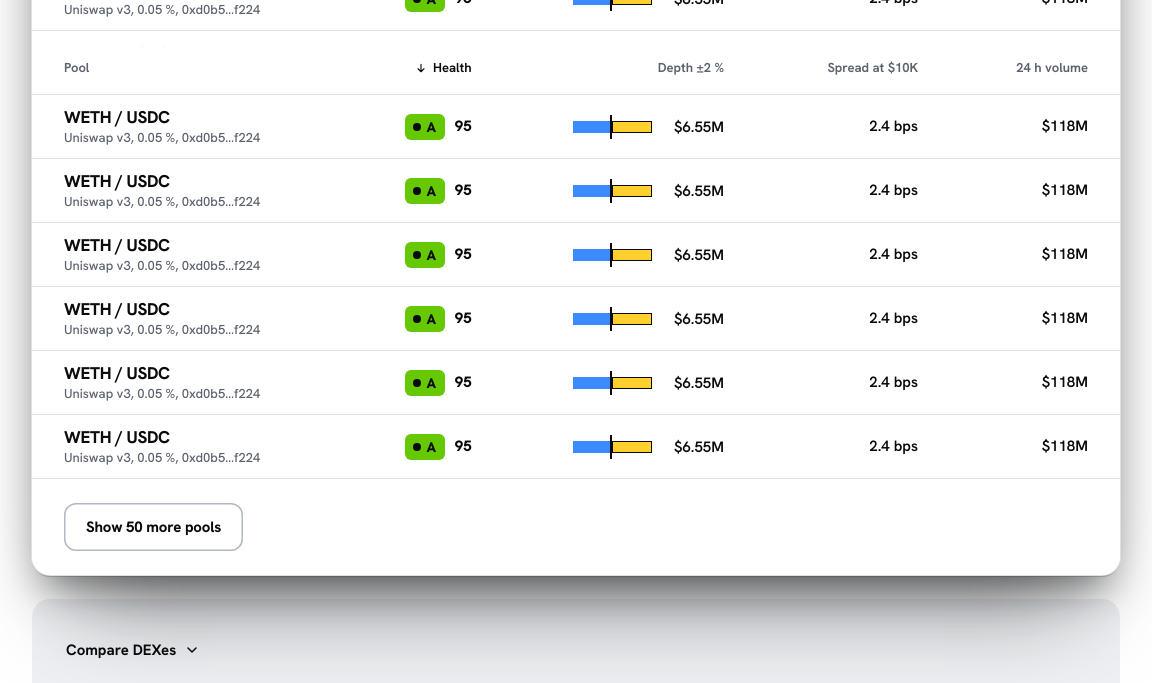
Scenario: Pools: paging and failures › shows pages of 50 and puts the page in the URL
(page scrolled)
Click the button "Show 50 more pools".
click(154, 527)  # box 64,503 -> 243,551
(page scrolled)
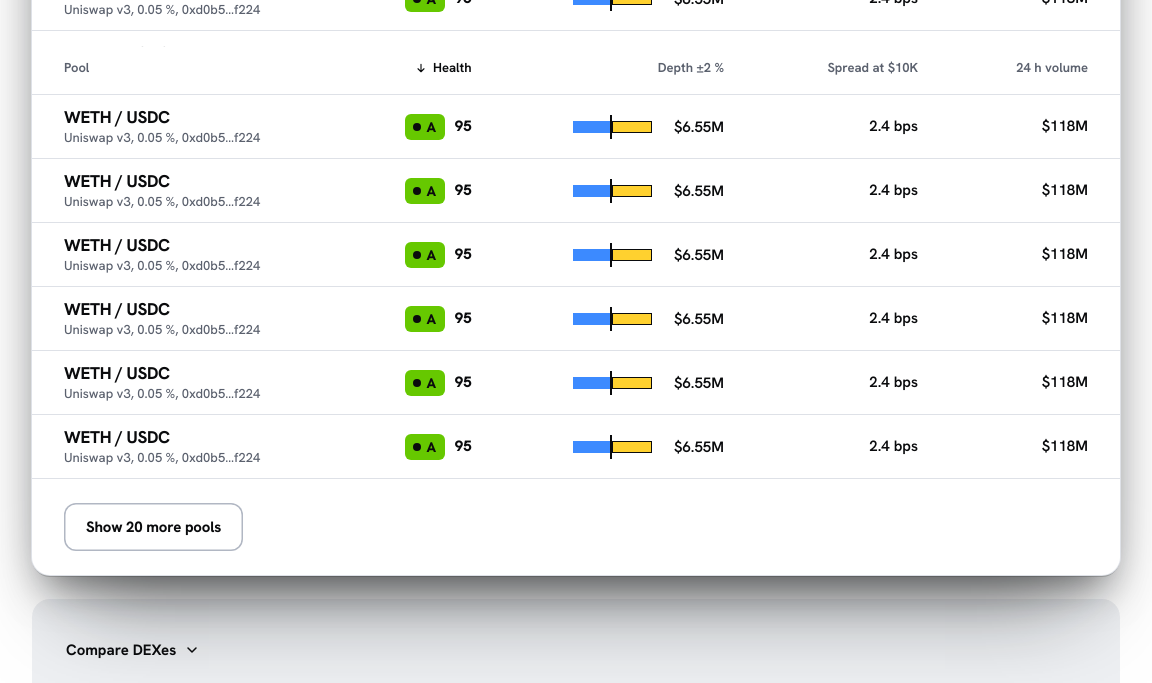
Click the button "Show 20 more pools".
click(154, 527)  # box 64,503 -> 243,551
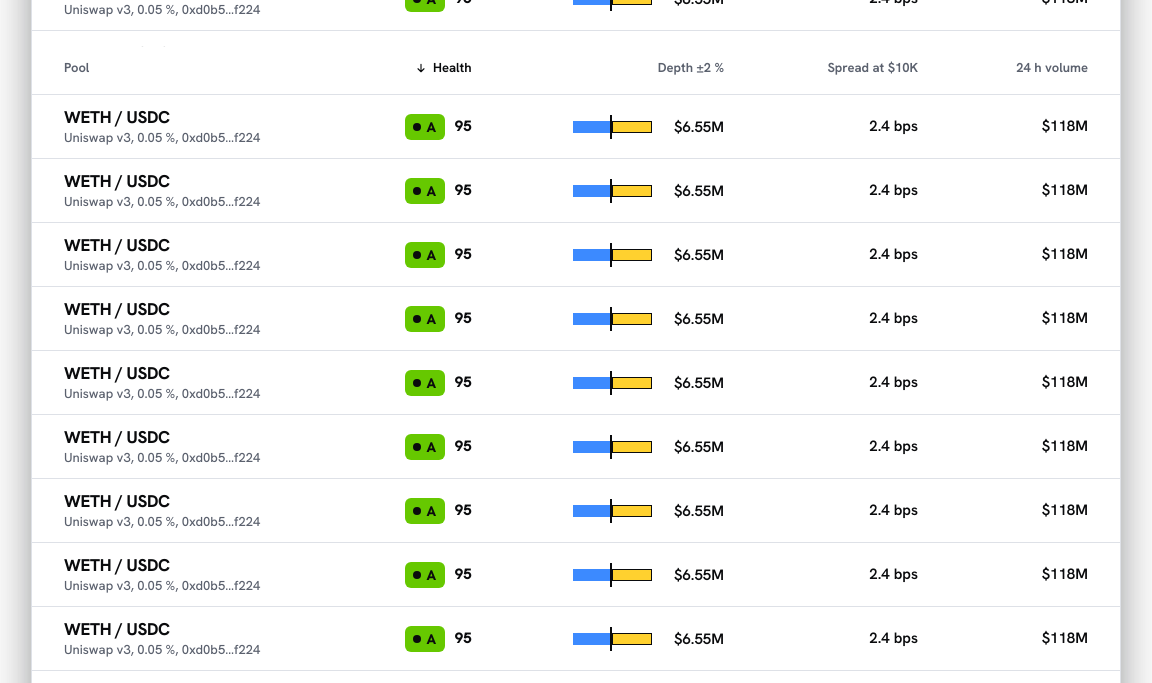
Expected: the button "more pools" is gone
